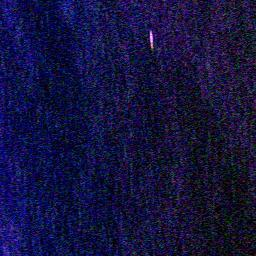Ship: (145, 28, 158, 49)
